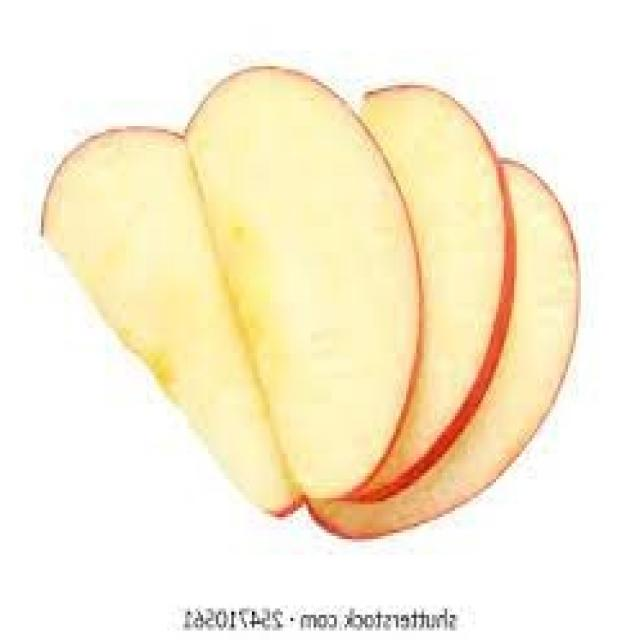Apple: (31, 120, 298, 545), (174, 56, 403, 548), (324, 145, 599, 542), (306, 60, 519, 523)
